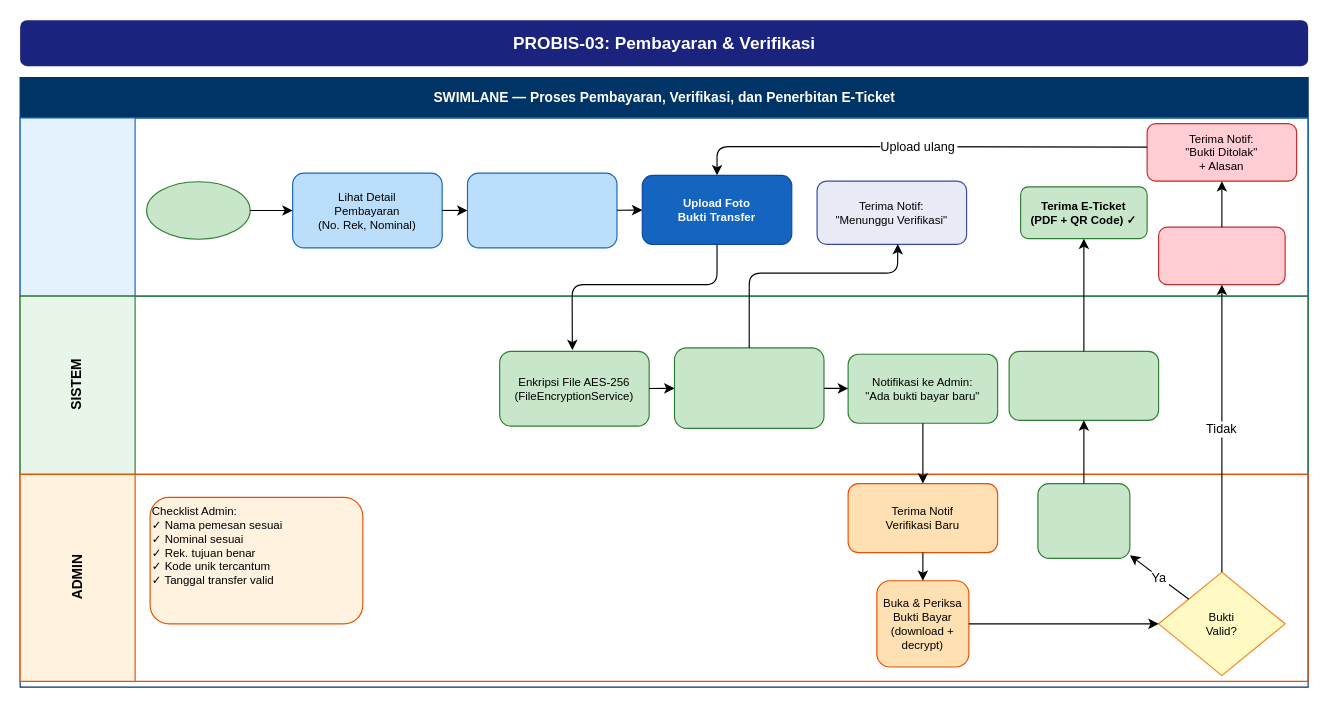
The diagram is 1328 pixels wide and 707 high, and some of its shapes have lost their labels. Here are the shapes that lost their labels. From the top down, the box of each, then its label:
(145, 181, 250, 239): Booking Pending
(466, 172, 617, 248): Transfer Bank ke Rek. Resmi DISPORA (+ kode unik)
(19, 117, 1308, 296): USER
(1157, 226, 1285, 285): Tap "Tolak" + Isi Alasan
(673, 347, 824, 428): Upload ke Supabase Storage: payment-proofs (PRIVATE bucket)
(1008, 350, 1159, 420): Generate E-Ticket PDF + QR Code
(1037, 482, 1130, 558): Tap "Konfirmasi" Status: CONFIRMED
